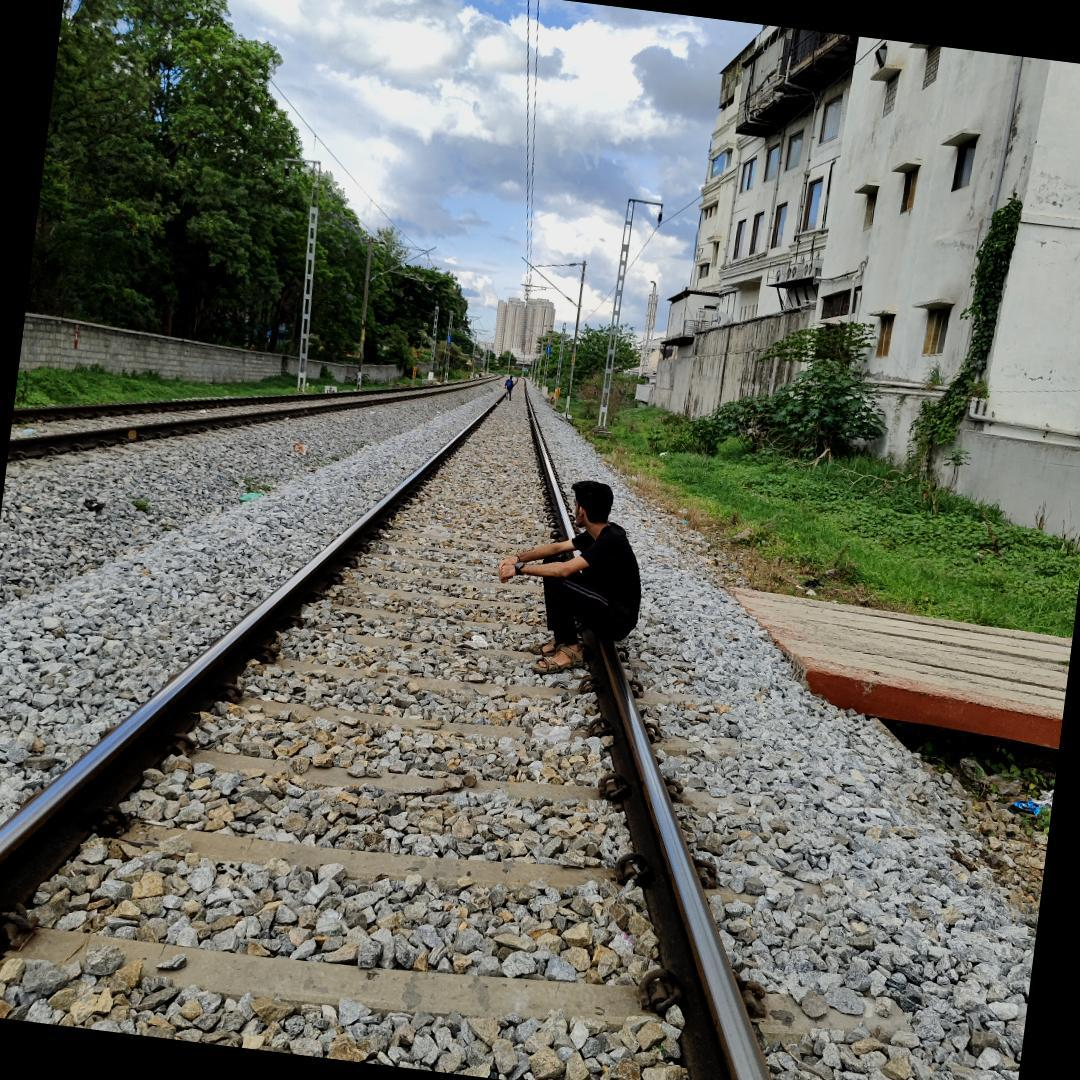sitting: (487, 466, 666, 693)
